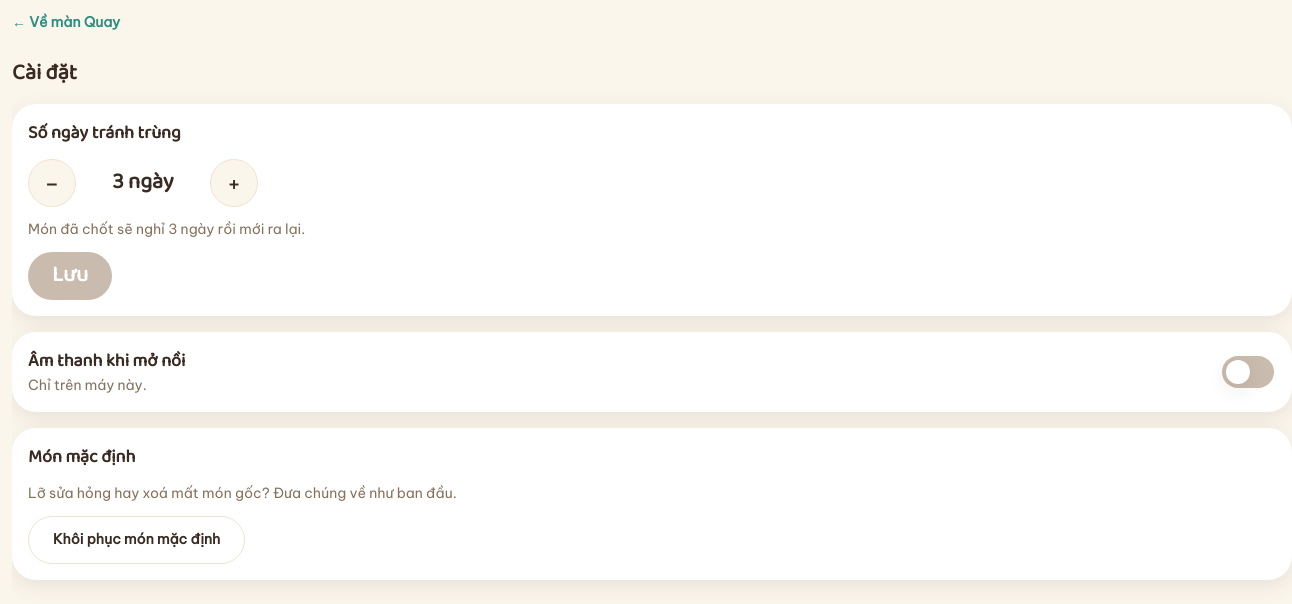
it: SettingsScreen › đổi rồi đổi lại về giá trị cũ thì Lưu khoá
Click the button named "Thêm một ngày" at (234, 182), box [210,158,258,206]
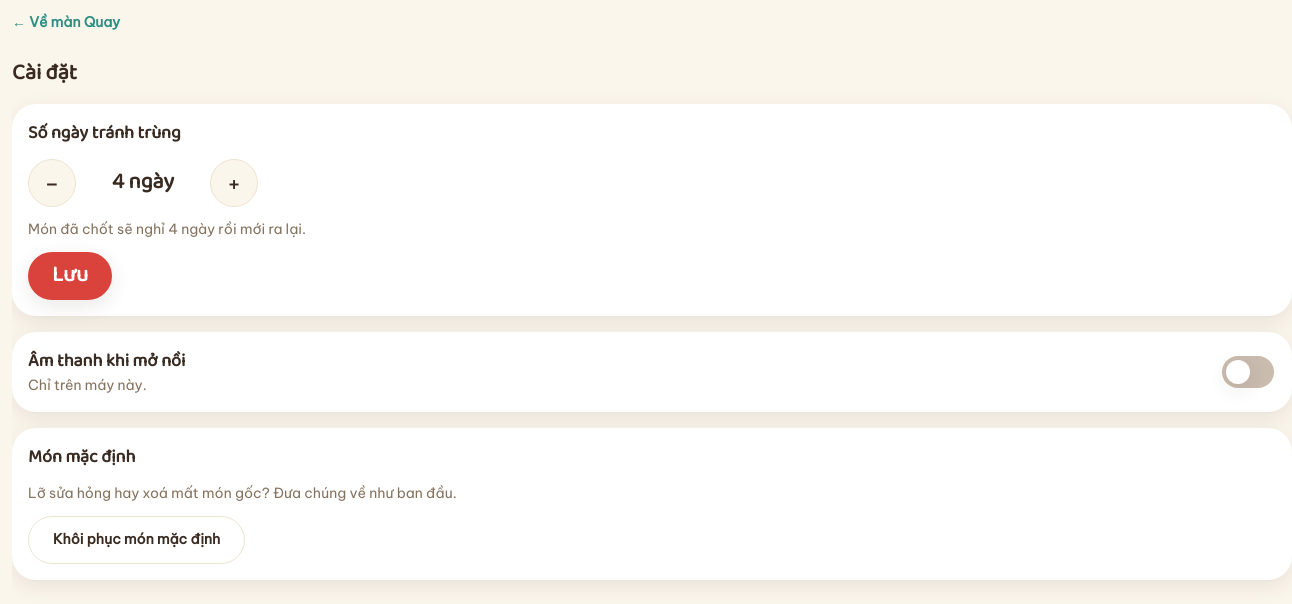
Click the button named "Bớt một ngày" at (52, 182), box [28,158,76,206]
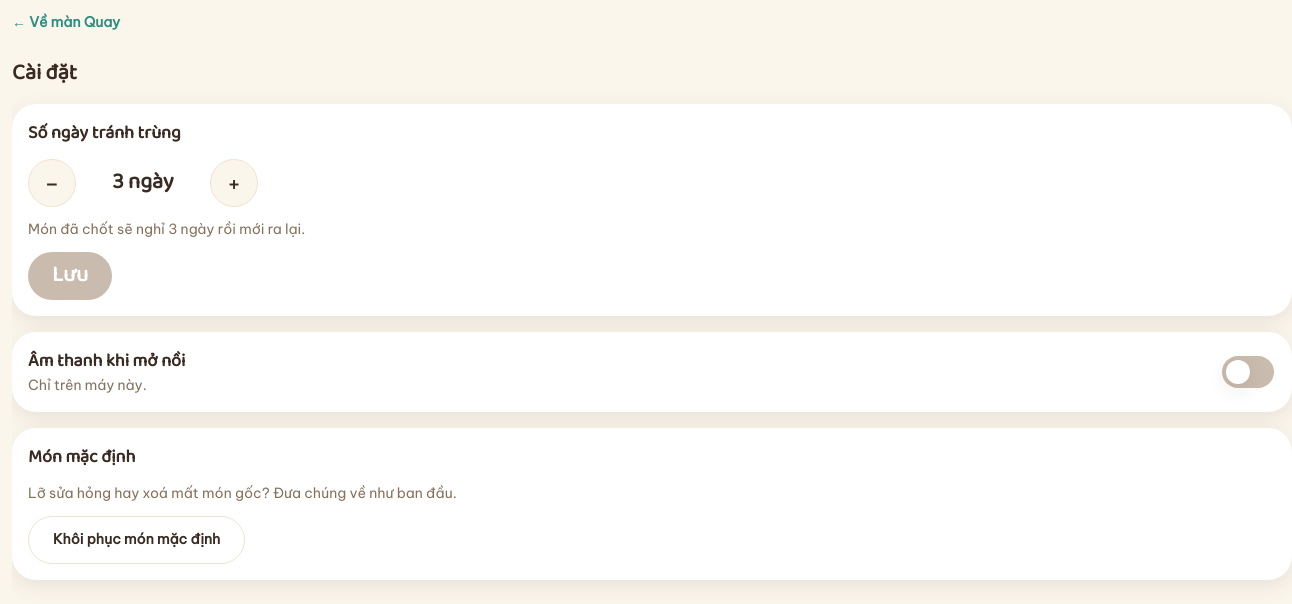
Expected: the button "Lưu" is disabled, [28,252,112,300]
